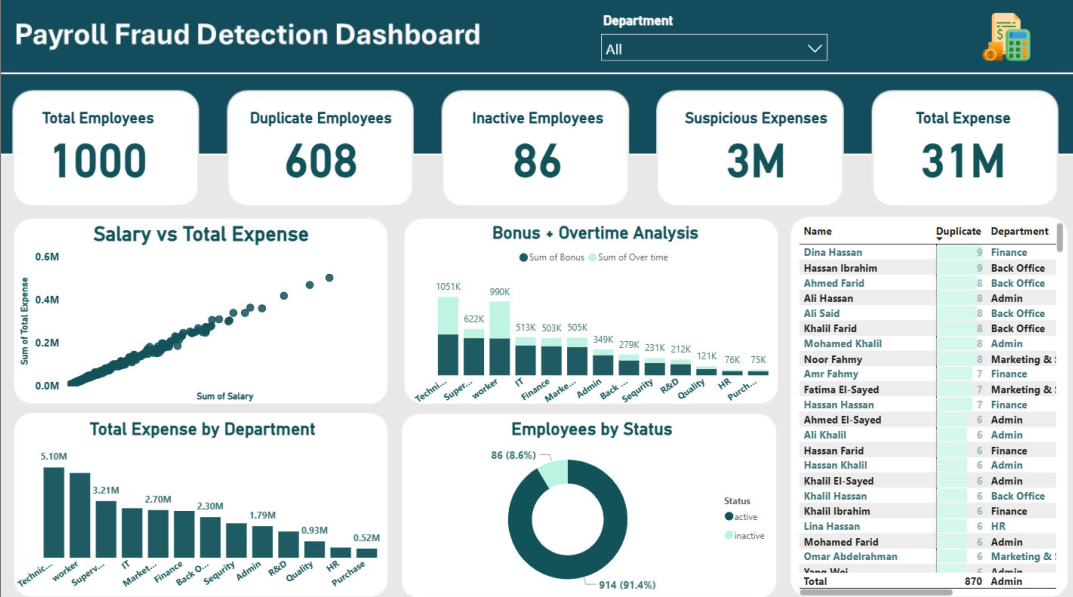

The dashboard page shown, as its layout file describes it:
{"tool":"powerbi","page":{"name":"Page 1","canvas":[1280,720],"ordinal":0},"visuals":[{"type":"card","title":"Total Employees","fields":{"Values":["CountNonNull(Before.Full name)"]},"box":[12.5,135,212.5,87.5],"z":0},{"type":"card","title":"Total Expense","fields":{"Values":["Sum(Before.Total Expense)"]},"box":[1051.2,135,183.8,87.5],"z":1000},{"type":"card","title":"Inactive Employees","fields":{"Values":["Before.Inactive Employees"]},"box":[547.5,135,183.8,87.5],"z":2000},{"type":"card","title":"Duplicate Employees","fields":{"Values":["Before.Duplicate Employees"]},"box":[290,135,183.8,87.5],"z":3000},{"type":"donutChart","title":"Employees by Status","fields":{"Category":["Before.Status"],"Y":["CountNonNull(Before.Full name)"]},"box":[484.5,501.2,436.9,216.7],"z":4000},{"type":"clusteredColumnChart","title":"Total Expense by Department","fields":{"Category":["Before.Department"],"Y":["Sum(Before.Total Expense)"]},"box":[17.5,501.2,448.8,211.2],"z":5000},{"type":"pivotTable","title":"Duplicate Employees Detection","fields":{"Rows":["Before.Full name"],"Values":["CountNonNull(Before.Full name)","Min(Before.Department)","Sum(Before.Salary)"]},"box":[943.8,265,322.5,452.5],"z":6000},{"type":"scatterChart","title":"Salary vs Total Expense","fields":{"X":["Sum(Before.Salary)"],"Y":["Sum(Before.Total Expense)"],"Category":["Before.Full name"]},"box":[21.2,268.8,438.8,217.5],"z":7000},{"type":"columnChart","title":"Bonus + Overtime Analysis","fields":{"Category":["Before.Department"],"Y":["Sum(Before.Bonus)","Sum(Before.Over time)"]},"box":[485,268.8,445,225],"z":8000},{"type":"card","title":"Suspicious Expenses","fields":{"Values":["Before.Suspicious Expenses"]},"box":[801.2,135,191.2,87.5],"z":9000},{"type":"slicer","fields":{"Values":["Before.Department"]},"box":[703.5,16.7,288.1,61.4],"z":10000},{"type":"image","box":[1160.2,16.7,67,67],"z":10001}]}

Visuals, with their boxes in screenshot pixels (x1, y1, x2, y2), scaled from the page's 1280x720 canvas onto the 1073x597 screenshot:
"Total Employees" card: bbox(10, 112, 189, 184)
"Total Expense" card: bbox(881, 112, 1035, 184)
"Inactive Employees" card: bbox(459, 112, 613, 184)
"Duplicate Employees" card: bbox(243, 112, 397, 184)
"Employees by Status" donutChart: bbox(406, 416, 772, 595)
"Total Expense by Department" clusteredColumnChart: bbox(15, 416, 391, 591)
"Duplicate Employees Detection" pivotTable: bbox(791, 220, 1062, 595)
"Salary vs Total Expense" scatterChart: bbox(18, 223, 386, 403)
"Bonus + Overtime Analysis" columnChart: bbox(407, 223, 780, 409)
"Suspicious Expenses" card: bbox(672, 112, 832, 184)
slicer - Before.Department: bbox(590, 14, 831, 65)
image: bbox(973, 14, 1029, 69)
